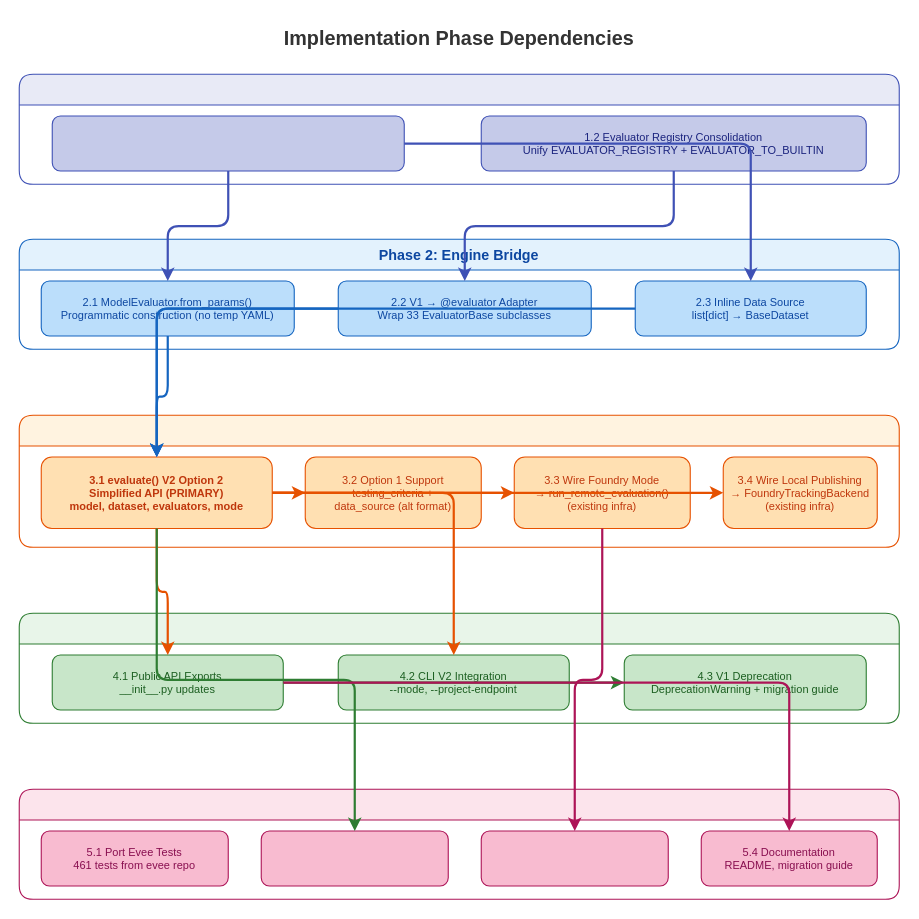
Image size: 919x919. Some labels were removed from this diagram. Here are the shapes that lost their labels. From the top down, the box of each, then its label:
(51, 115, 404, 171): 1.1 Core Types EvaluationMode, EvaluationRunResult
(18, 73, 899, 184): Phase 1: Foundation
(18, 414, 899, 547): Phase 3: V2 evaluate() — PRIMARY DELIVERABLE
(18, 612, 899, 723): Phase 4: Ship
(260, 830, 448, 886): 5.2 V2 API Tests Name resolution, modes
(18, 788, 899, 899): Phase 5: Quality
(480, 830, 668, 886): 5.3 E2E Tests Local + Foundry modes
